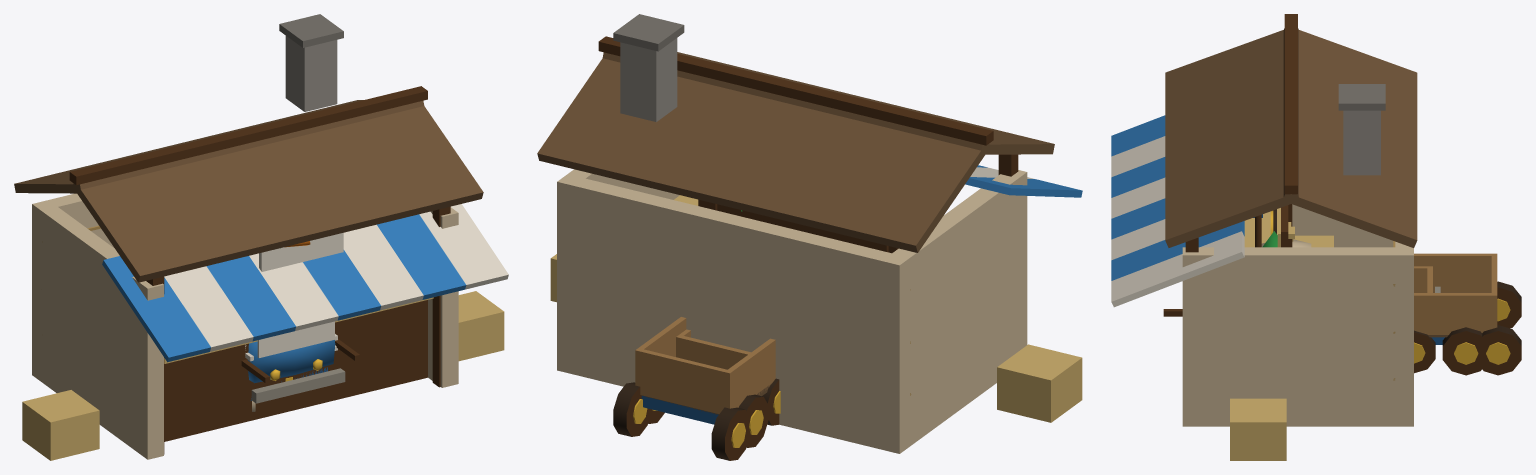
File: round4.glb
The picture shows the model from 3 angles, left to right: view 1: azimuth 30°, elevation 25°; view 2: azimuth 150°, elevation 25°; view 3: azimuth 270°, elevation 25°; orthographic projection. The views are drawn at different scales.
Visible parts, largest first — view 1: stall_shop, truck_lorry, truck_box, stall_cart; view 2: stall_shop, truck_lorry_trailer, truck_lorry_wheel_tr2, truck_box, truck_lorry_wheel_tl2, sign_yard, truck_lorry_wheel_tr, truck_box_wheel_br; view 3: stall_shop, truck_lorry_trailer, truck_lorry_wheel_tl, truck_lorry_wheel_tl2, sign_yard, truck_lorry_wheel_tr2, stall_cart, truck_box_wheel_bl, truck_box.
Boxes of the visible parts, x1,y1,x2,y2 form: stall_shop: [14, 14, 508, 460]; truck_lorry: [245, 321, 345, 403]; truck_box: [250, 322, 341, 402]; stall_cart: [241, 339, 359, 382]; stall_shop: [537, 14, 1082, 453]; truck_lorry_trailer: [635, 317, 775, 424]; truck_lorry_wheel_tr2: [711, 407, 750, 460]; truck_box: [676, 329, 750, 369]; truck_lorry_wheel_tl2: [613, 382, 649, 436]; sign_yard: [698, 199, 898, 253]; truck_lorry_wheel_tr: [738, 394, 768, 447]; truck_box_wheel_br: [762, 378, 780, 425]; stall_shop: [1111, 14, 1417, 460]; truck_lorry_trailer: [1414, 253, 1497, 344]; truck_lorry_wheel_tl: [1442, 327, 1488, 375]; truck_lorry_wheel_tl2: [1475, 325, 1521, 375]; sign_yard: [1262, 204, 1294, 247]; truck_lorry_wheel_tr2: [1497, 281, 1521, 328]; stall_cart: [1163, 215, 1333, 316]; truck_box_wheel_bl: [1414, 330, 1435, 373]; truck_box: [1414, 266, 1440, 292].
Size of the model in its own units: 5.55 by 3.62 by 4.34.
